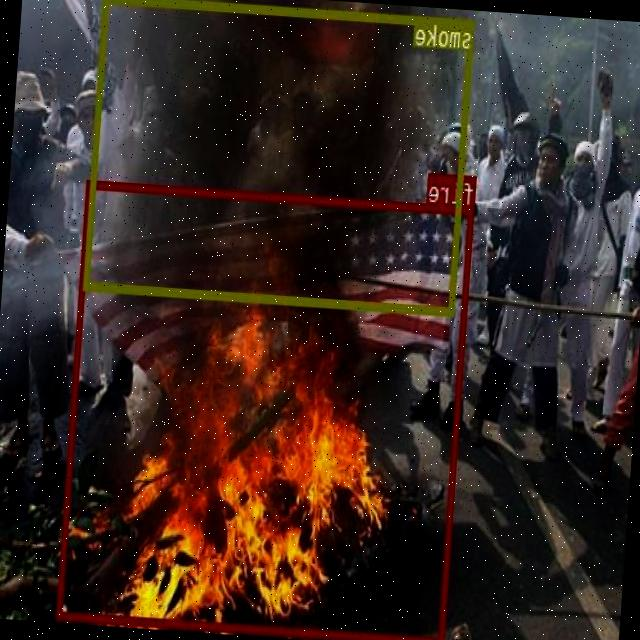fire: (56, 177, 475, 640)
smoke: (85, 0, 476, 315)
